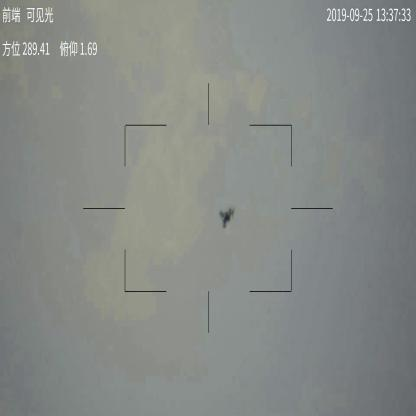uav: (218, 206, 236, 228)
